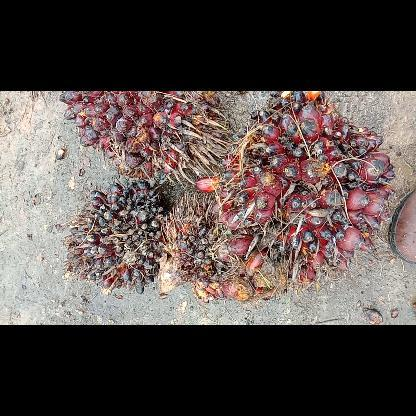Kurang masak: (196, 90, 394, 288)
TBS abnormal: (63, 180, 171, 292), (158, 192, 262, 300)
TBS masak: (58, 91, 230, 185)
